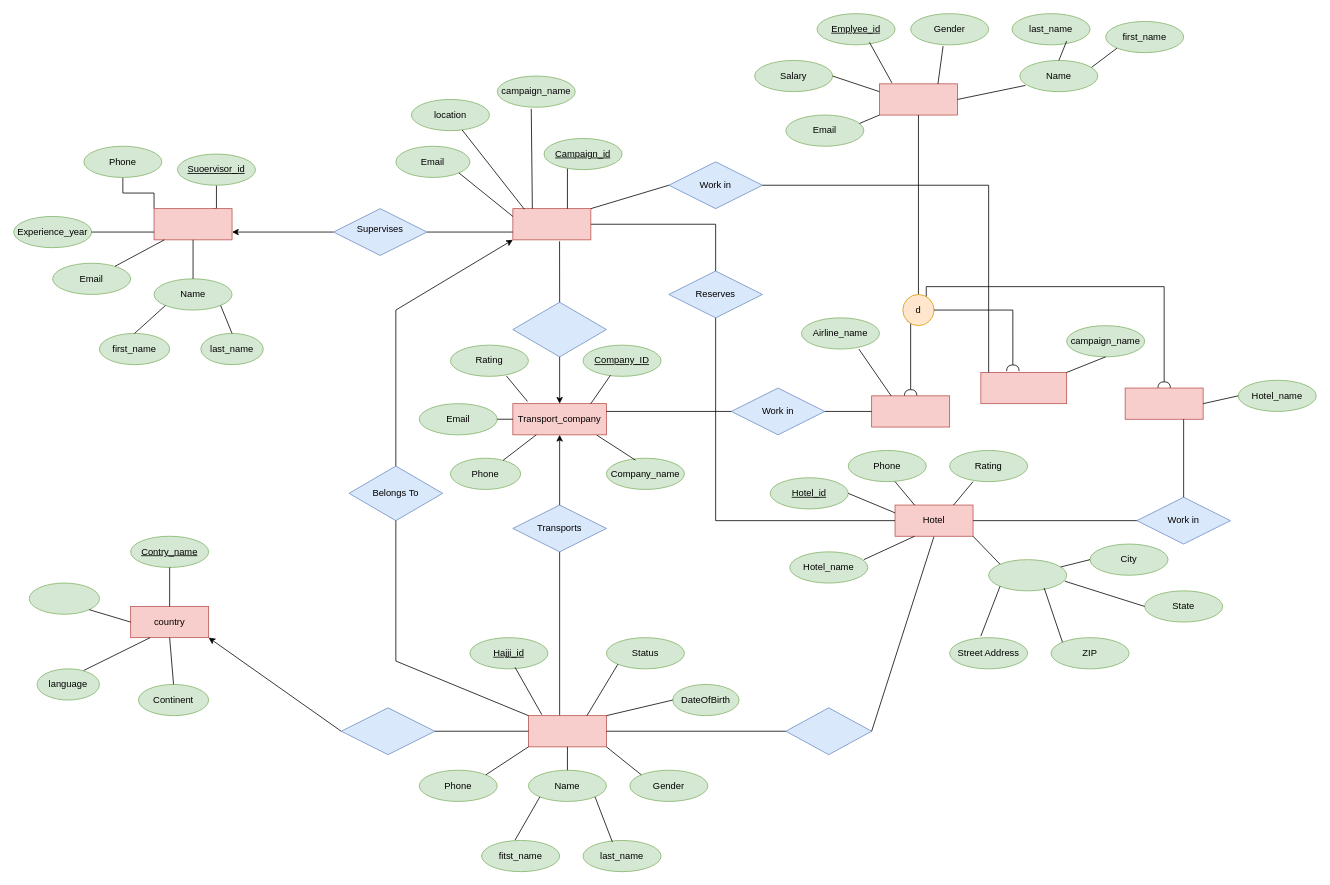
The diagram is 1330 pixels wide and 885 high, and some of its shapes have lost their labels. The centre of each missing label's shape, as x and y in pixels:
"Address" goes at (x=1027, y=575).
"AirlineEmployee" goes at (x=910, y=411).
"campaign" goes at (x=551, y=224).
"CampaignEmployee" goes at (x=1023, y=388).
"currecy" goes at (x=63, y=598).
"employee" goes at (x=918, y=99).
"from" goes at (x=387, y=731).
"Hajji" goes at (x=567, y=731).
"HotelEmployee" goes at (x=1163, y=403).
"stays in" goes at (x=828, y=731).
"Supervisor" goes at (x=192, y=224).
"uses services" goes at (x=559, y=329).
